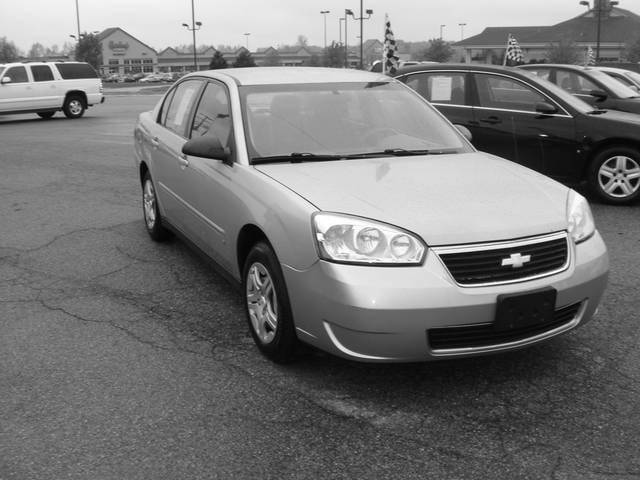car: (135, 73, 609, 365)
